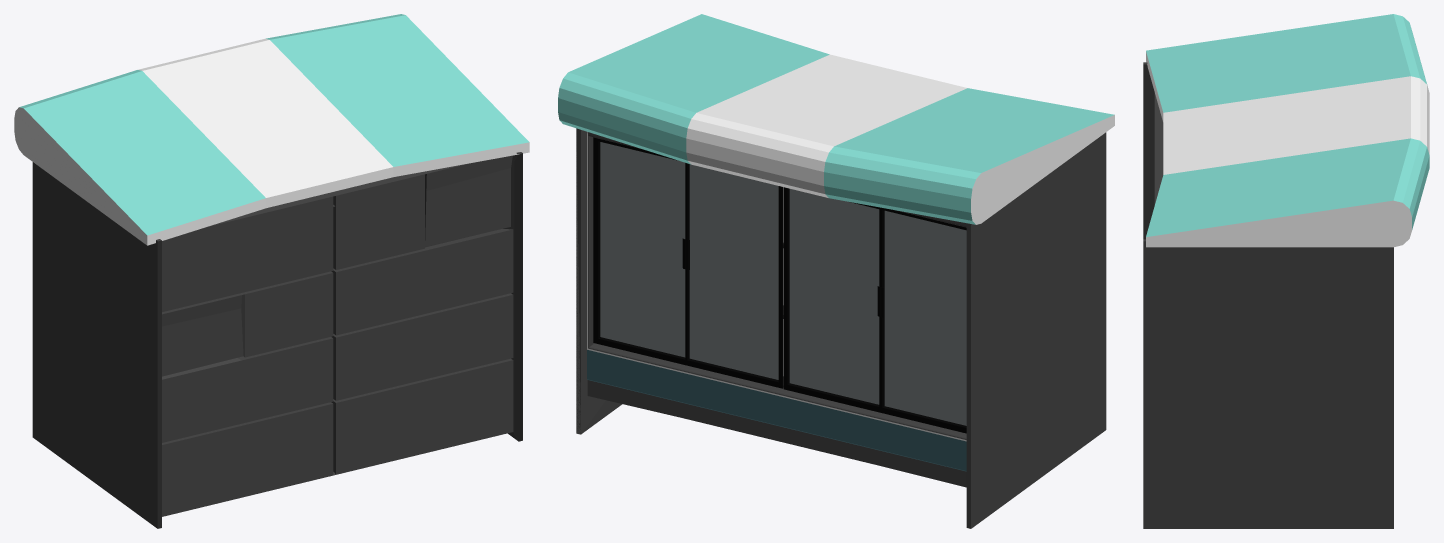
File: New Fridge.fbx
3 renders of one model, left to right at view 1: azimuth 30°, elevation 25°; view 2: azimuth 150°, elevation 25°; view 3: azimuth 270°, elevation 25°, orthographic. The views are drawn at different scales.
Visible parts, largest first — view 1: Main Fridge, Cube.008; view 2: Main Fridge, Cube.008, RL Door, LR Door, LL Door, RR Door; view 3: Main Fridge, Cube.008.
Part boxes in pixels (left/top/right/bottom): Main Fridge: left=32, top=152, right=522, bottom=528; Cube.008: left=14, top=14, right=529, bottom=245; Main Fridge: left=576, top=128, right=1106, bottom=528; Cube.008: left=558, top=14, right=1114, bottom=224; RL Door: left=783, top=187, right=880, bottom=412; LR Door: left=686, top=163, right=783, bottom=388; LL Door: left=593, top=137, right=686, bottom=365; RR Door: left=880, top=207, right=966, bottom=433; Main Fridge: left=1143, top=62, right=1393, bottom=528; Cube.008: left=1146, top=14, right=1429, bottom=247.
Bounding box in the file's own units: 264 × 219 × 171.
